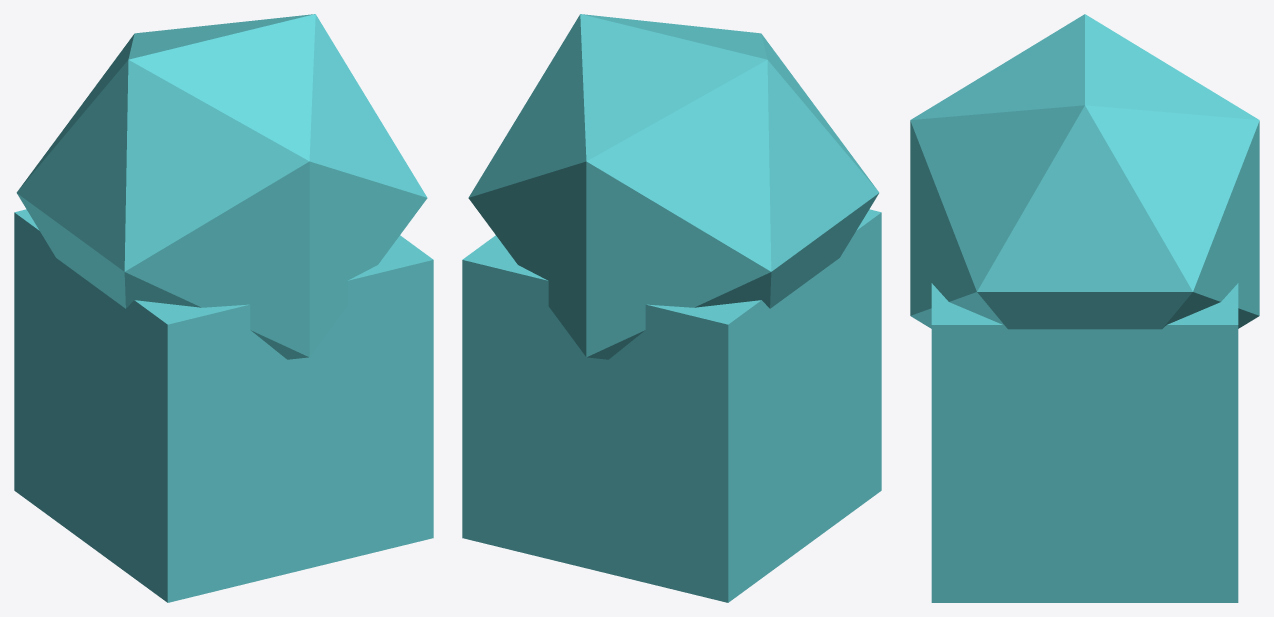
File: test2Gltf.gltf
3 renders of one model, left to right at view 1: azimuth 30°, elevation 25°; view 2: azimuth 150°, elevation 25°; view 3: azimuth 270°, elevation 25°, orthographic.
Visible parts, largest first — view 1: 宝石.1; view 2: 宝石.1; view 3: 宝石.1.
Boxes of the visible parts, x1,y1,x2,y2 form: 宝石.1: (14,14,433,602); 宝石.1: (462,14,881,602); 宝石.1: (910,14,1259,602).
Bounding box in the file's own units: 56.97 × 85.88 × 56.97.
